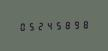eight: (44, 20, 52, 31), (80, 19, 88, 29)
five: (35, 20, 43, 31)
nine: (26, 20, 34, 31), (62, 19, 70, 30)
one: (17, 21, 25, 32)
two: (53, 20, 61, 30)
zero: (71, 19, 79, 30)
